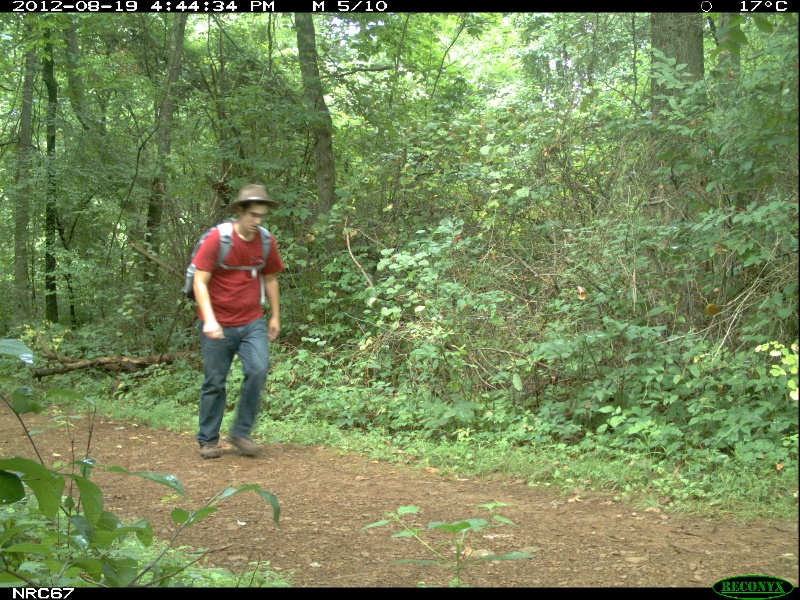human: (188, 180, 284, 462)
human face: (238, 201, 269, 235)
human legs: (190, 314, 271, 455)
